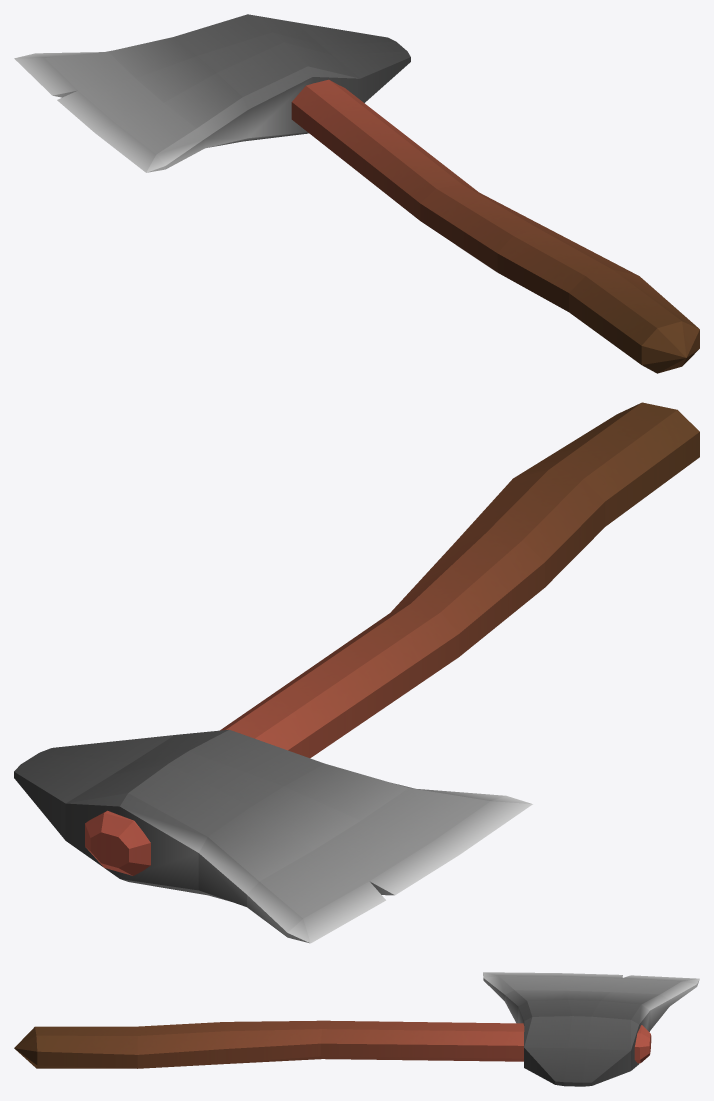
Rendered from Hatchet.fbx.
The picture shows the model from 3 angles, top to bottom: view 1: azimuth 30°, elevation 25°; view 2: azimuth 150°, elevation 25°; view 3: azimuth 270°, elevation 25°; orthographic projection. The views are drawn at different scales.
Visible parts, largest first — view 1: Hatchet; view 2: Hatchet; view 3: Hatchet.
Boxes of the visible parts, x1,y1,x2,y2 form: Hatchet: (14,14,699,373); Hatchet: (14,402,699,943); Hatchet: (14,972,699,1086).
Bounding box in the file's own units: 0.00231 × 0.000506 × 0.00595.
